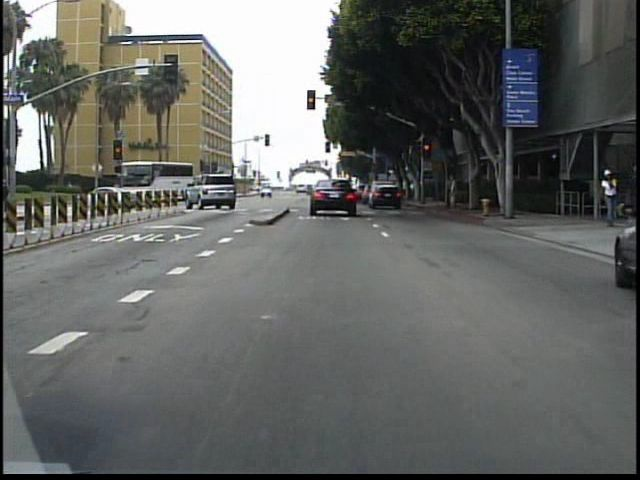person: (620, 162, 639, 225), (444, 168, 461, 212)
